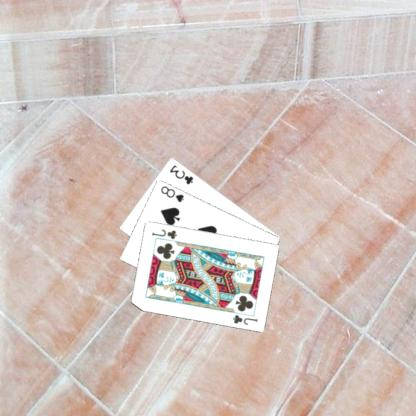3C: (168, 162, 197, 186)
8S: (160, 183, 187, 203)
JC: (150, 226, 180, 241), (232, 312, 260, 326)
